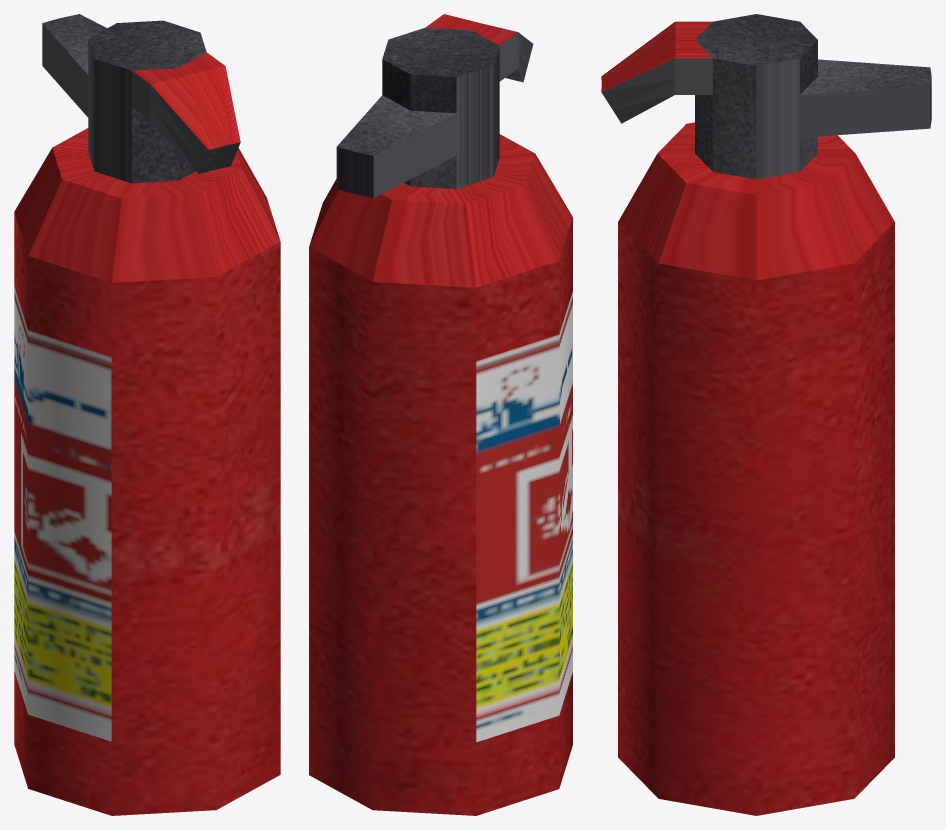
Rendered from fire extenguisher.FBX.
3 views of the same model, side by side, from view 1: azimuth 30°, elevation 25°; view 2: azimuth 150°, elevation 25°; view 3: azimuth 270°, elevation 25° (orthographic).
Parts seen in each view (by area): view 1: Cylinder001, Object003, Object001, Object002; view 2: Cylinder001, Object003, Object001, Object002; view 3: Cylinder001, Object001, Object002.
Boxes of the visible parts, x1=… form: Cylinder001: x1=14, y1=128, x2=280, y2=815; Object003: x1=14, y1=286, x2=111, y2=741; Object001: x1=42, y1=14, x2=240, y2=183; Object002: x1=132, y1=52, x2=240, y2=149; Cylinder001: x1=309, y1=134, x2=572, y2=815; Object003: x1=476, y1=291, x2=572, y2=742; Object001: x1=336, y1=27, x2=533, y2=197; Object002: x1=425, y1=14, x2=517, y2=45; Cylinder001: x1=618, y1=122, x2=894, y2=815; Object001: x1=601, y1=14, x2=931, y2=179; Object002: x1=601, y1=21, x2=712, y2=91.
Size of the model in its own units: 1288 by 3682 by 1536.
3 materials, 3 textured.
